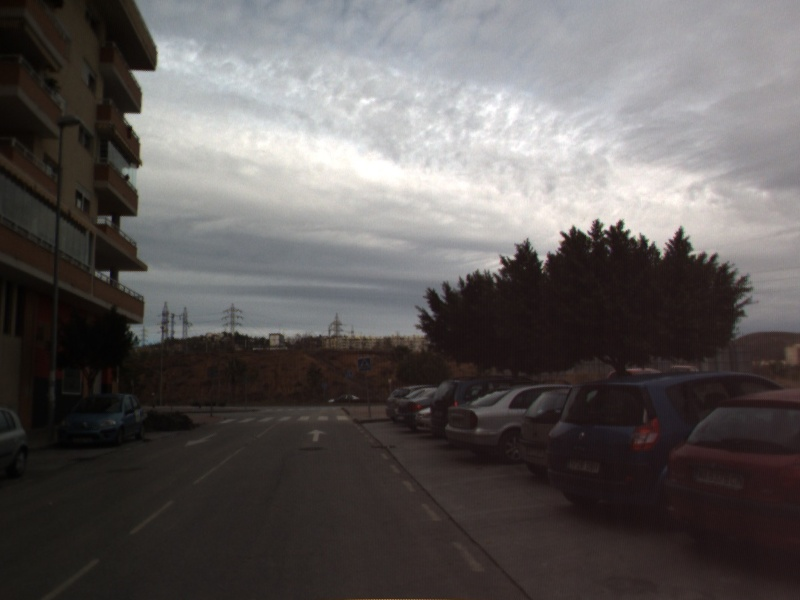STRAIGHT: (305, 427, 329, 443)
